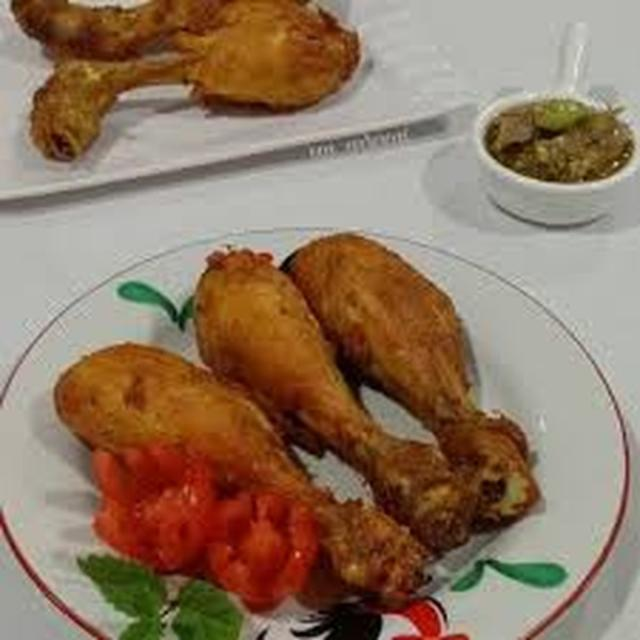CHICKEN FRY: (60, 235, 544, 611)
